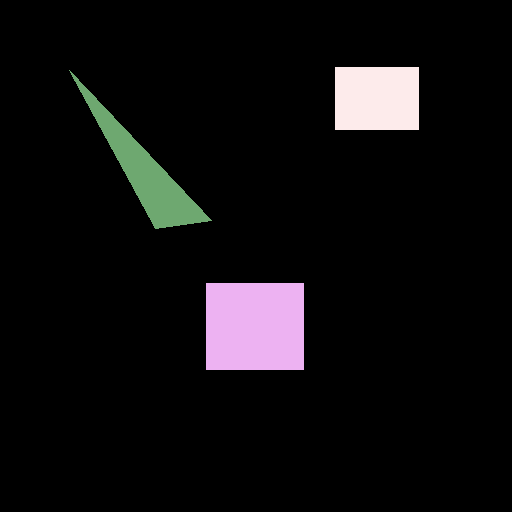rectangle: (206, 283, 303, 369), (335, 67, 418, 129)
triangle: (69, 70, 211, 227)
